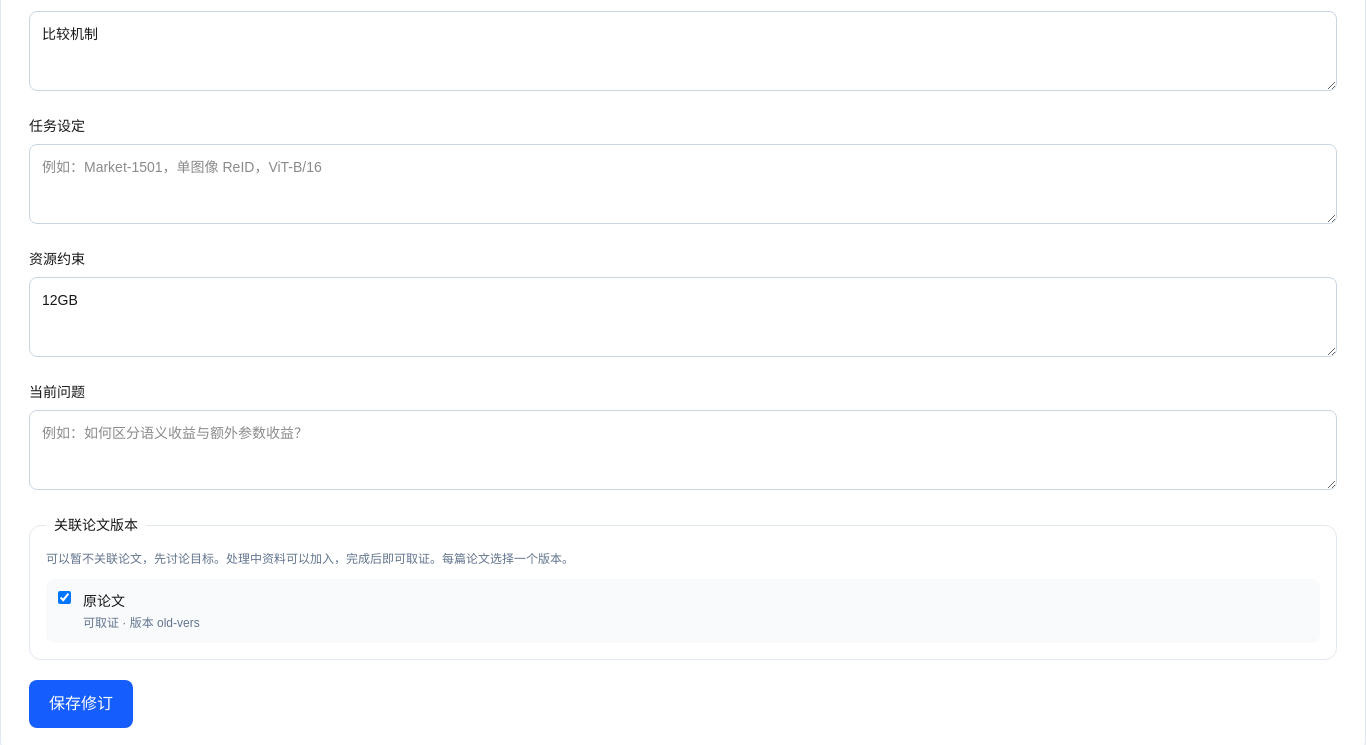
Test: preserves pinned material versions and surfaces revision conflicts
The width and height of the screenshot is (1366, 745).
(page scrolled)
expect the text "原论文" is shown: met, box [83,593,125,609]
Click the button "保存修订". click: (81, 704)
box: [29,680,133,728]
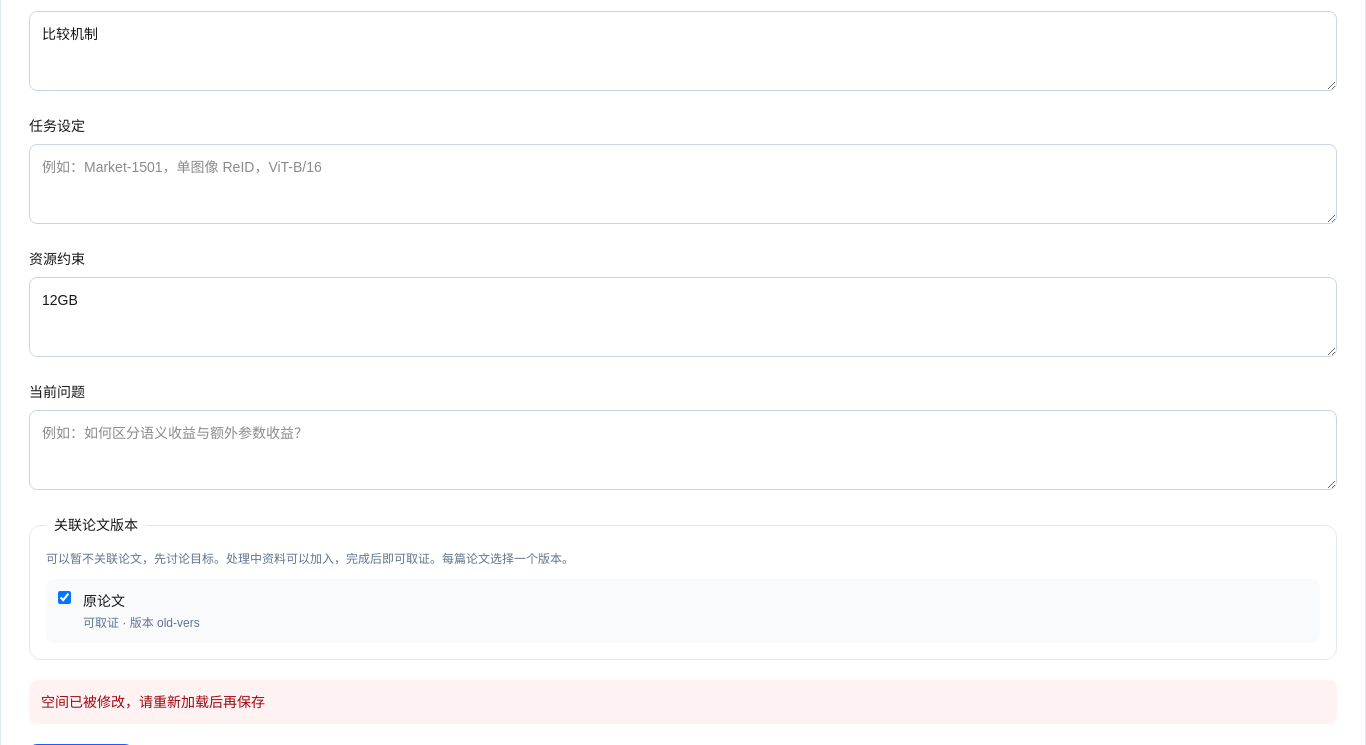
expect the message shows "重新加载": met, box [41,694,265,710]
